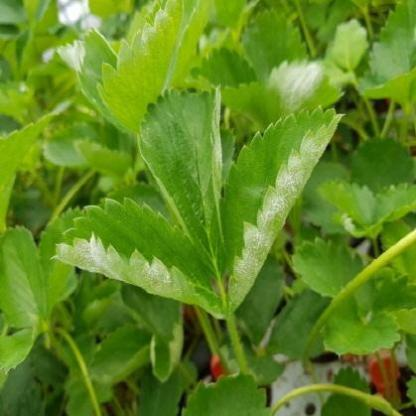Strawberry_Powdery_Mildew_Leaf: (217, 104, 347, 314), (51, 197, 230, 320), (137, 82, 226, 282)
